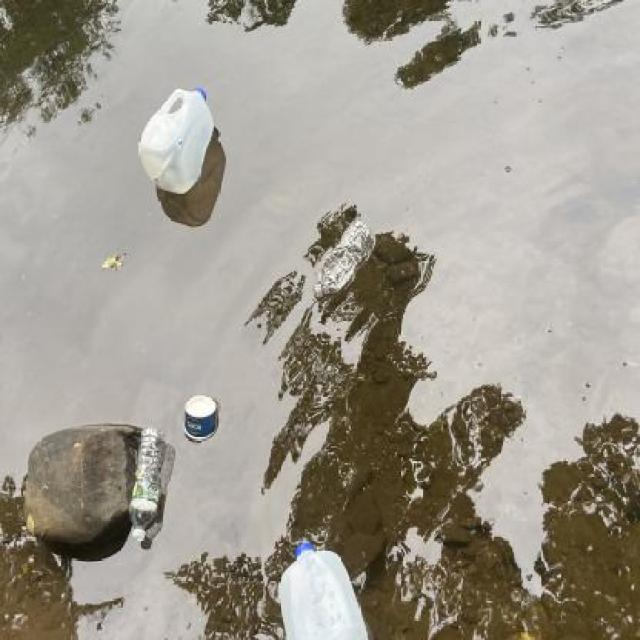Paper: (178, 386, 225, 446)
Plastic: (132, 73, 219, 198), (273, 535, 372, 640), (312, 208, 381, 301), (125, 422, 170, 546)
